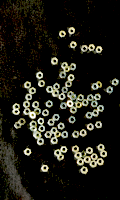nut: (81, 167, 89, 175), (42, 165, 50, 173), (24, 148, 32, 156), (97, 158, 105, 166), (98, 144, 106, 152), (51, 137, 59, 145), (37, 138, 45, 146), (18, 118, 26, 126), (42, 109, 50, 117), (34, 108, 42, 116), (46, 100, 54, 108), (70, 93, 78, 101), (38, 80, 46, 88), (68, 74, 76, 82), (51, 57, 59, 65), (96, 46, 104, 54), (90, 161, 98, 168), (84, 157, 92, 164), (77, 159, 85, 166), (91, 154, 99, 161), (87, 147, 94, 155), (61, 147, 69, 154), (96, 121, 103, 129), (73, 131, 80, 139), (62, 131, 69, 139), (35, 132, 42, 140), (45, 132, 53, 139), (54, 131, 62, 138), (14, 122, 22, 129), (48, 119, 56, 126), (69, 116, 76, 124), (86, 112, 94, 119), (24, 108, 32, 115), (13, 109, 21, 116), (23, 101, 31, 108), (33, 101, 40, 109), (30, 87, 37, 95), (24, 82, 32, 89), (60, 103, 68, 110), (91, 101, 99, 108), (107, 86, 114, 94), (82, 100, 90, 107), (76, 101, 83, 109), (78, 94, 85, 102), (53, 89, 60, 97), (64, 65, 71, 73), (70, 63, 77, 71), (89, 44, 96, 52), (82, 45, 89, 53), (71, 41, 78, 49), (69, 27, 76, 35), (59, 31, 67, 38), (101, 151, 108, 158), (80, 151, 87, 158), (73, 146, 80, 153), (58, 154, 65, 161), (55, 150, 62, 157), (88, 124, 95, 131), (33, 131, 40, 138), (51, 128, 58, 135), (39, 126, 46, 133), (38, 118, 45, 125), (58, 123, 65, 130), (53, 114, 60, 121), (93, 110, 100, 117), (98, 105, 105, 112), (30, 112, 37, 119), (26, 94, 33, 101), (71, 107, 78, 114), (113, 79, 120, 86), (95, 94, 102, 101), (88, 95, 95, 102), (96, 82, 103, 89), (92, 83, 99, 90), (67, 101, 74, 108), (68, 91, 75, 98), (59, 93, 66, 100), (62, 87, 69, 94), (47, 86, 54, 93), (37, 72, 44, 79), (66, 81, 73, 88), (60, 72, 67, 79), (62, 62, 69, 69), (81, 129, 87, 137), (30, 126, 38, 132), (30, 121, 38, 127), (13, 104, 21, 110), (75, 153, 82, 159), (72, 97, 78, 104), (54, 83, 60, 90), (52, 92, 59, 97)
